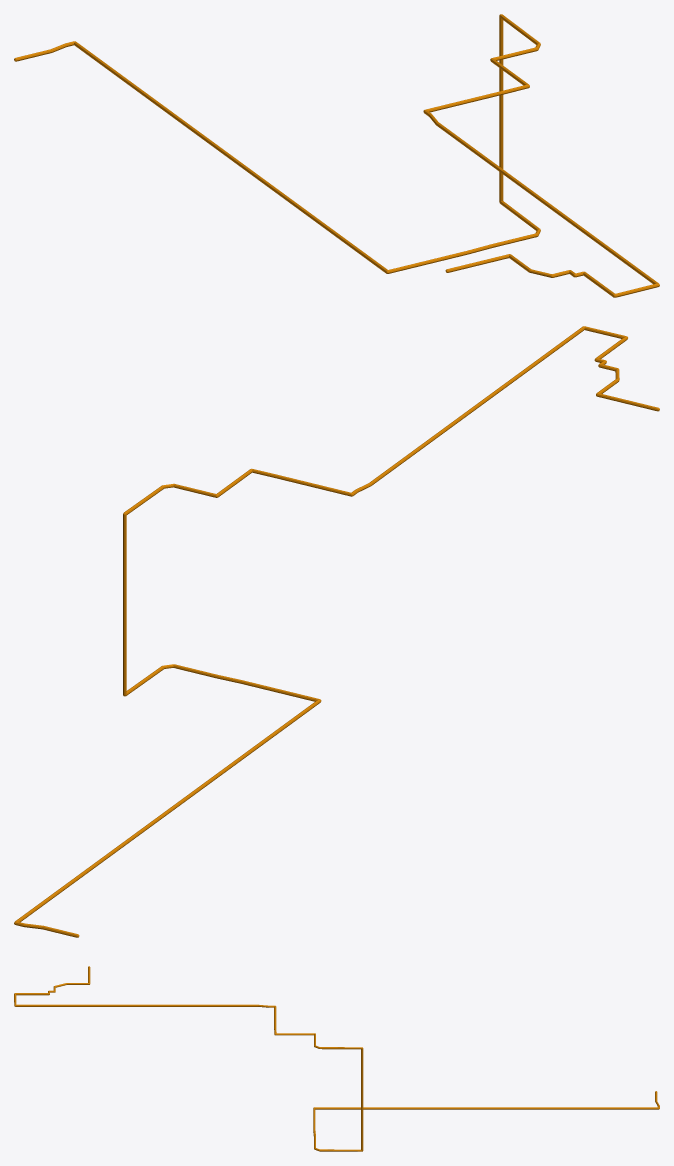
The picture shows the model from 3 angles, top to bottom: view 1: azimuth 30°, elevation 25°; view 2: azimuth 150°, elevation 25°; view 3: azimuth 270°, elevation 25°; orthographic projection. The views are drawn at different scales.
Bounding box in the file's own units: 1717 × 1020 × 5718.
